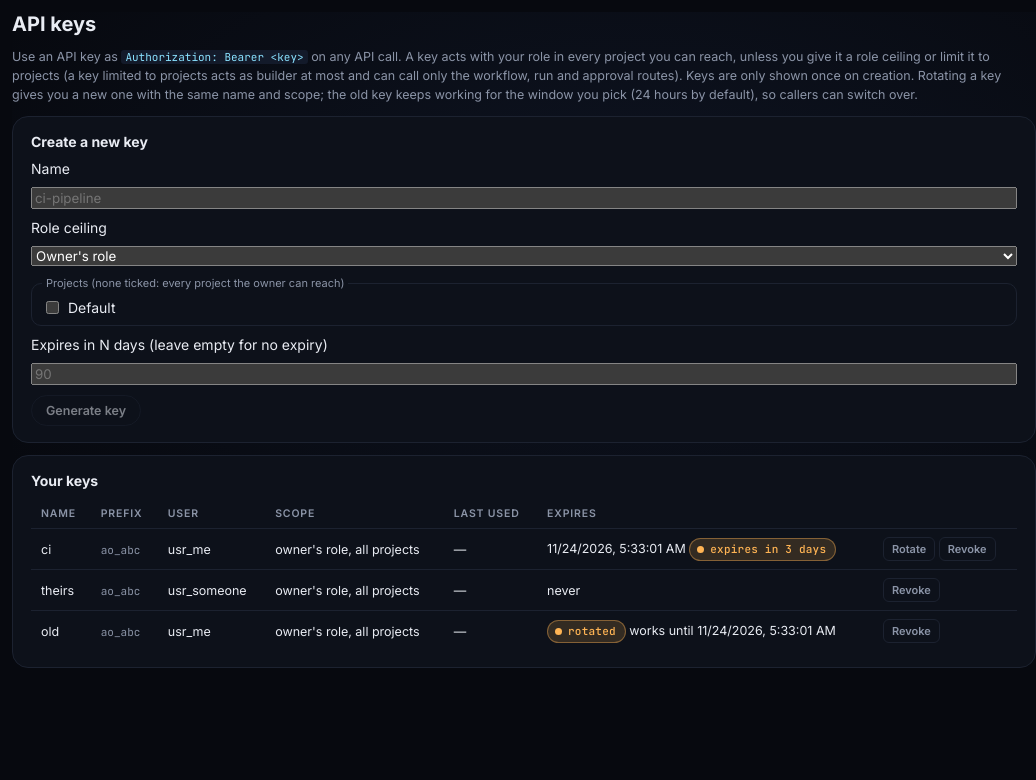
Test case: API keys tab › rotates only your own active keys and shows the new key once with the old key's end
Expected: the text "expires in 3 days" is shown, x1=689 y1=538 x2=836 y2=560
Click the button with aria-label "Rotate ci" at (909, 549), box x1=883 y1=537 x2=935 y2=561
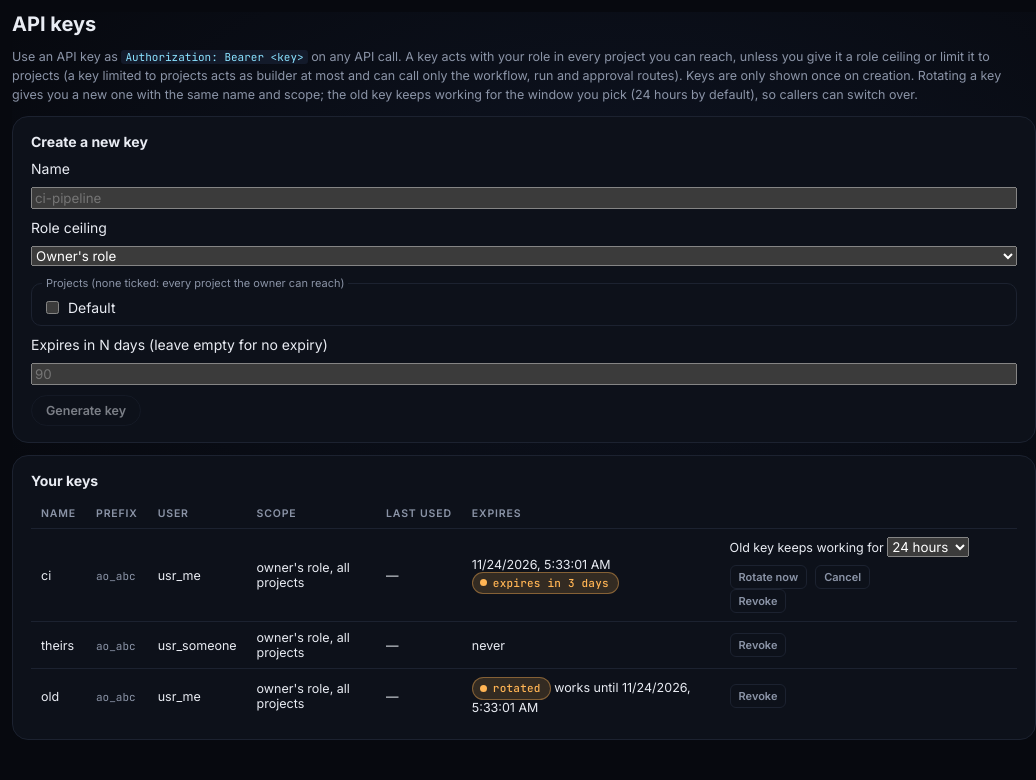
Select "3 days" in the dropdown labelled "Old key keeps working for" at (928, 547), box x1=887 y1=537 x2=969 y2=557
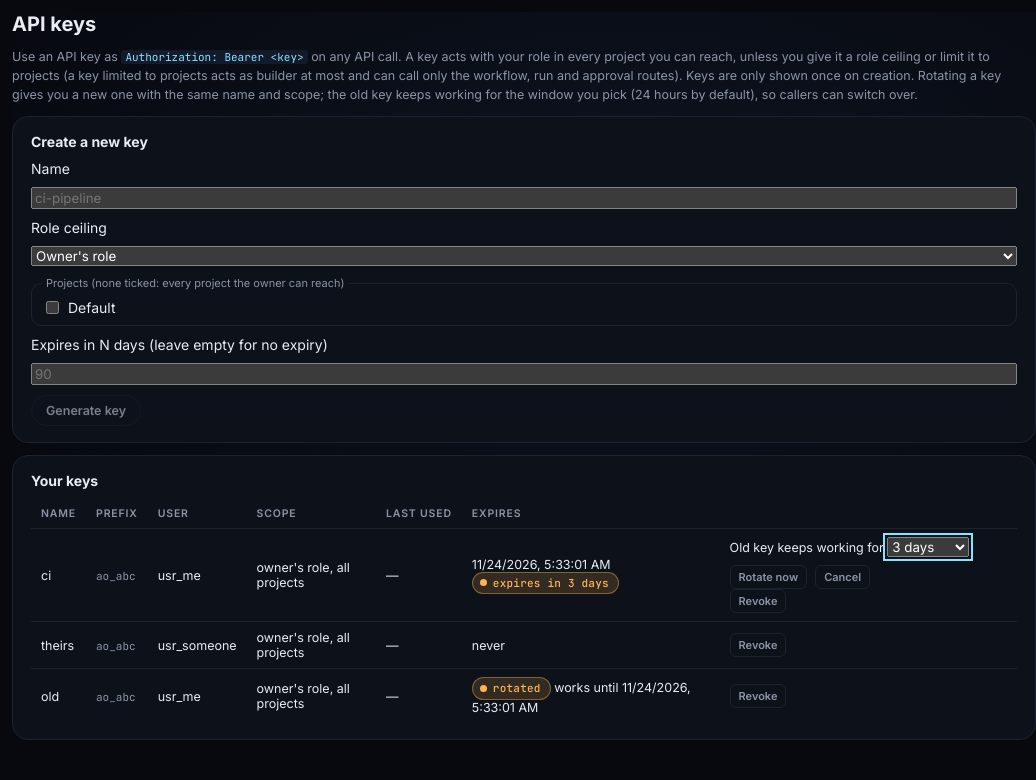
Click the button "Rotate now" at (768, 577), box x1=730 y1=565 x2=807 y2=589
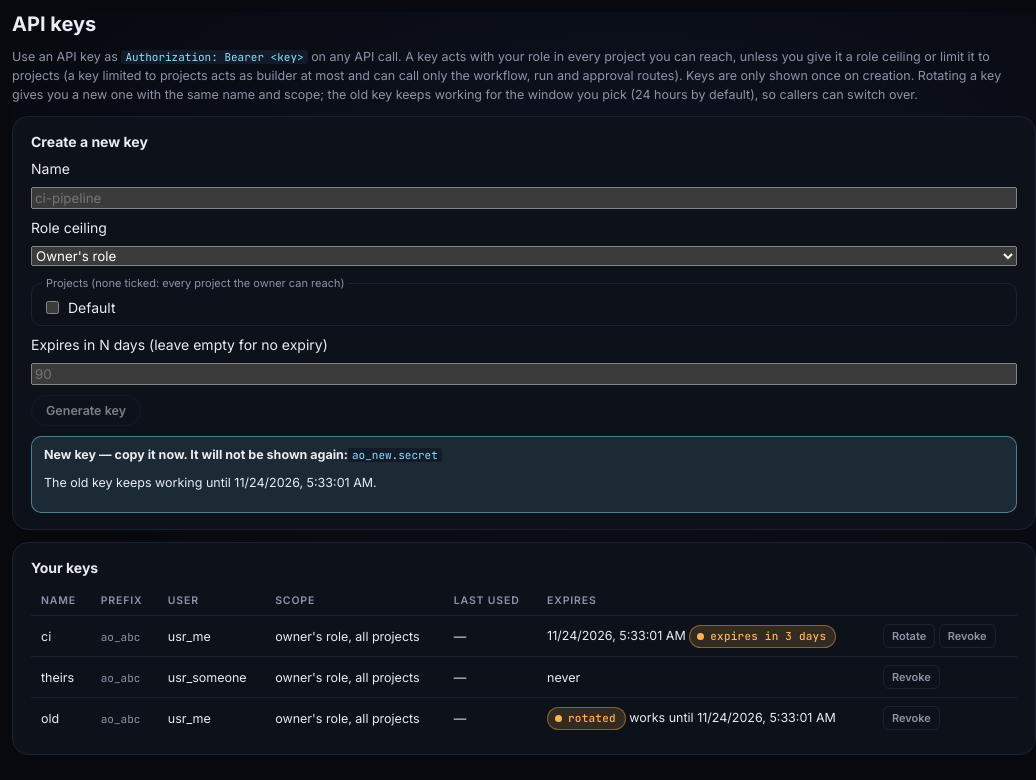
Now the text "ao_new.secret" is shown, box x1=348 y1=448 x2=442 y2=462
Now the text "The old key keeps working until 11/24/2026, 5:33:01 AM." is shown, box x1=44 y1=475 x2=377 y2=490
